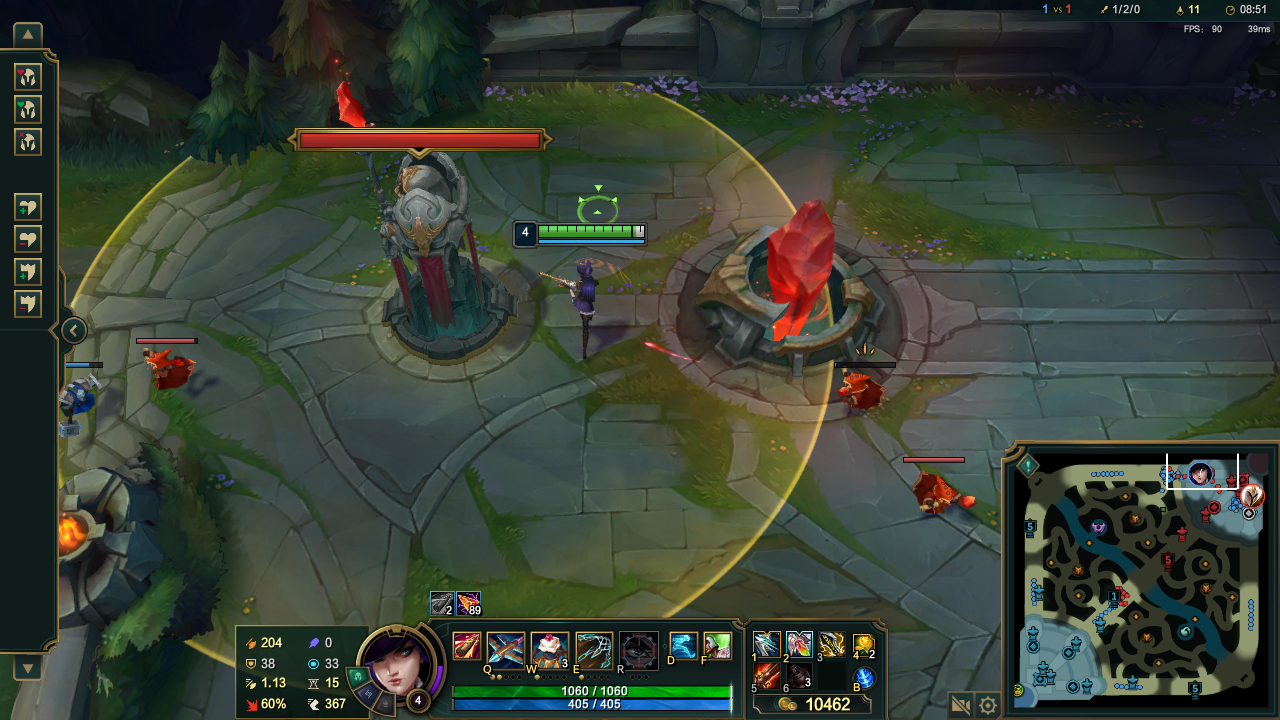DFFYT: (342, 154, 513, 364)
DFSJ: (714, 207, 895, 365)
